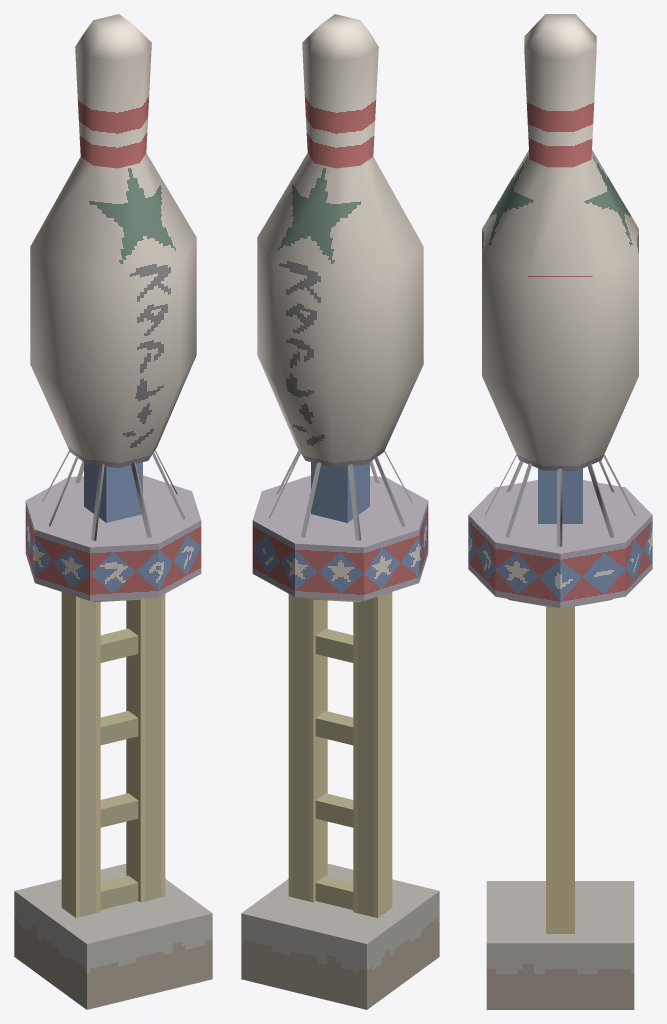
File: 02c9_Huge_Bowling_Pin.glb
3 views of the same model, side by side, from view 1: azimuth 30°, elevation 25°; view 2: azimuth 150°, elevation 25°; view 3: azimuth 270°, elevation 25° (orthographic).
Parts seen in each view (by area): view 1: part_1, part_0; view 2: part_1, part_0; view 3: part_1, part_0.
Part boxes in pixels (box(x1,y1,x2,y2)): part_1: box(25, 14, 201, 600); part_0: box(14, 592, 212, 1009); part_1: box(252, 14, 428, 600); part_0: box(241, 592, 439, 1009); part_1: box(468, 14, 652, 607); part_0: box(486, 599, 634, 1009).
Bounding box in the file's own units: 20 × 115 × 20.
2 materials, 2 textured.
